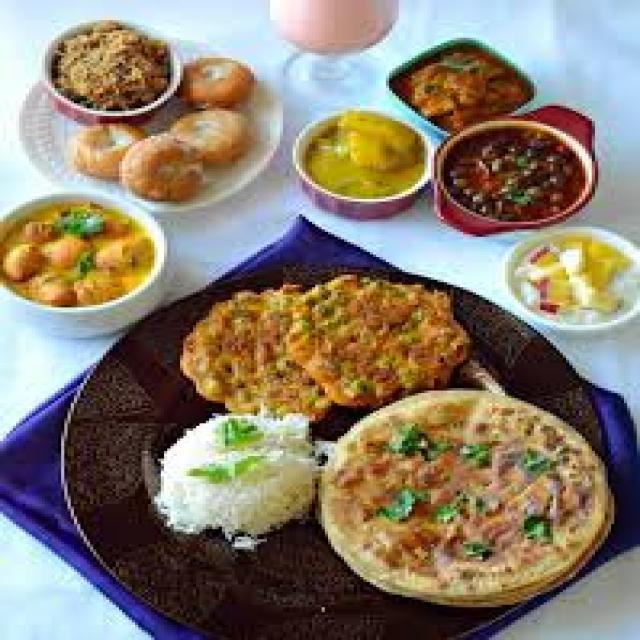curd: (140, 405, 325, 537)
dal: (292, 113, 430, 204)
papad: (187, 267, 468, 416)
raita: (144, 410, 327, 534)
rice: (45, 24, 175, 117)
roti: (189, 263, 468, 415)
sambar-rasam: (253, 0, 414, 53)
sweet: (5, 192, 159, 312)
veg-fry: (334, 389, 606, 605), (434, 122, 592, 232), (390, 33, 533, 130)
